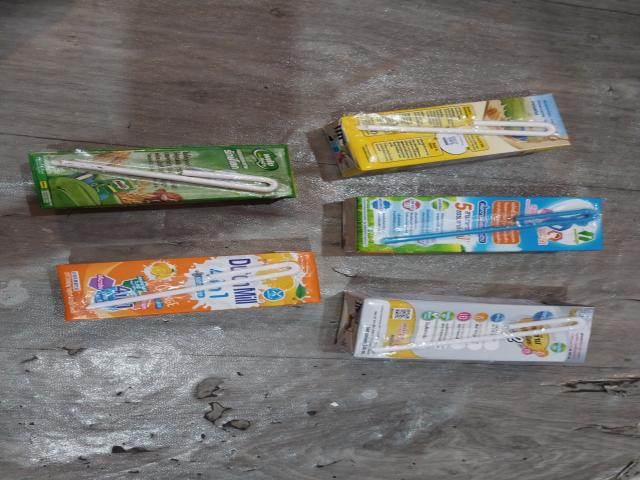drink_box: (339, 286, 597, 364), (345, 188, 614, 259), (44, 256, 323, 319), (28, 145, 294, 204), (329, 104, 575, 165)
